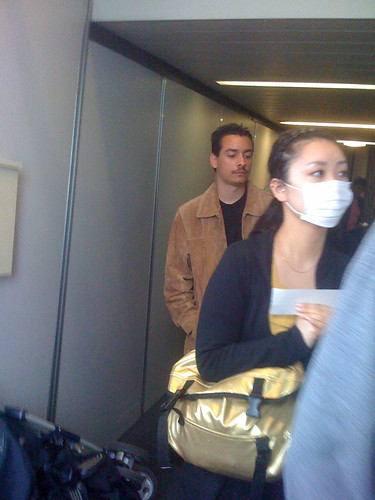mask: (302, 175, 358, 232)
